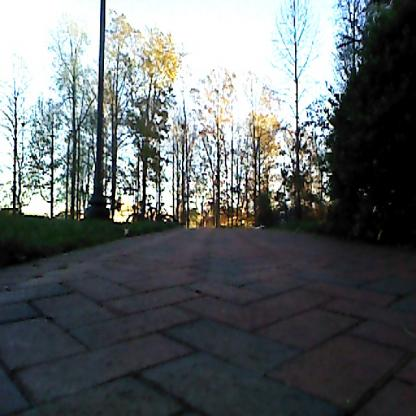Edge: (1, 218, 177, 284), (272, 215, 416, 267)
Sidewalk: (0, 228, 416, 416)
